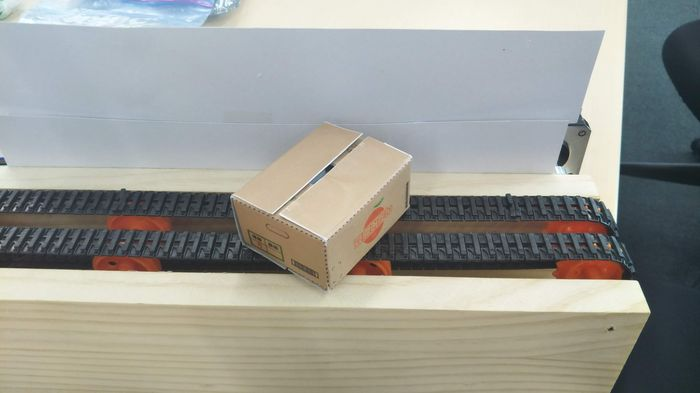box1: (227, 119, 412, 286)
